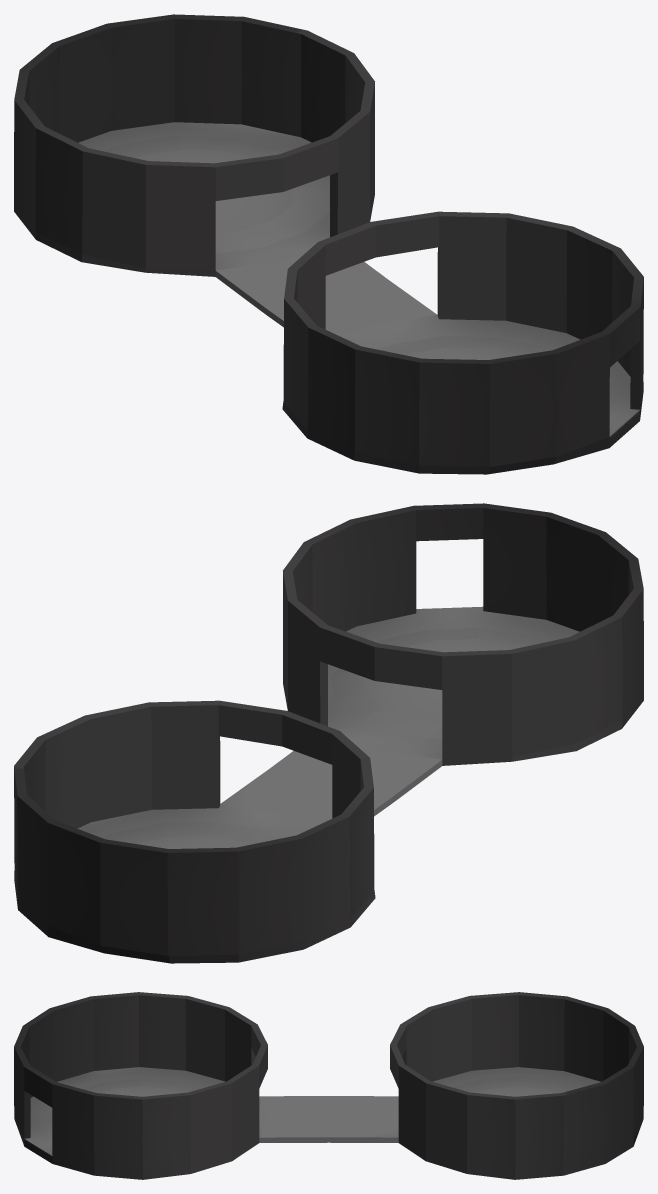
Rendered from TechInterior4.fbx.
The picture shows the model from 3 angles, top to bottom: view 1: azimuth 30°, elevation 25°; view 2: azimuth 150°, elevation 25°; view 3: azimuth 270°, elevation 25°; orthographic projection. The views are drawn at different scales.
Parts seen in each view (by area): view 1: Circle.006; view 2: Circle.006; view 3: Circle.006.
Boxes of the visible parts, x1,y1,x2,y2 form: Circle.006: (14, 14, 643, 474); Circle.006: (14, 503, 643, 963); Circle.006: (14, 992, 643, 1179).
Bounding box in the file's own units: 1701 × 593 × 4205.
1 material, 1 textured.
